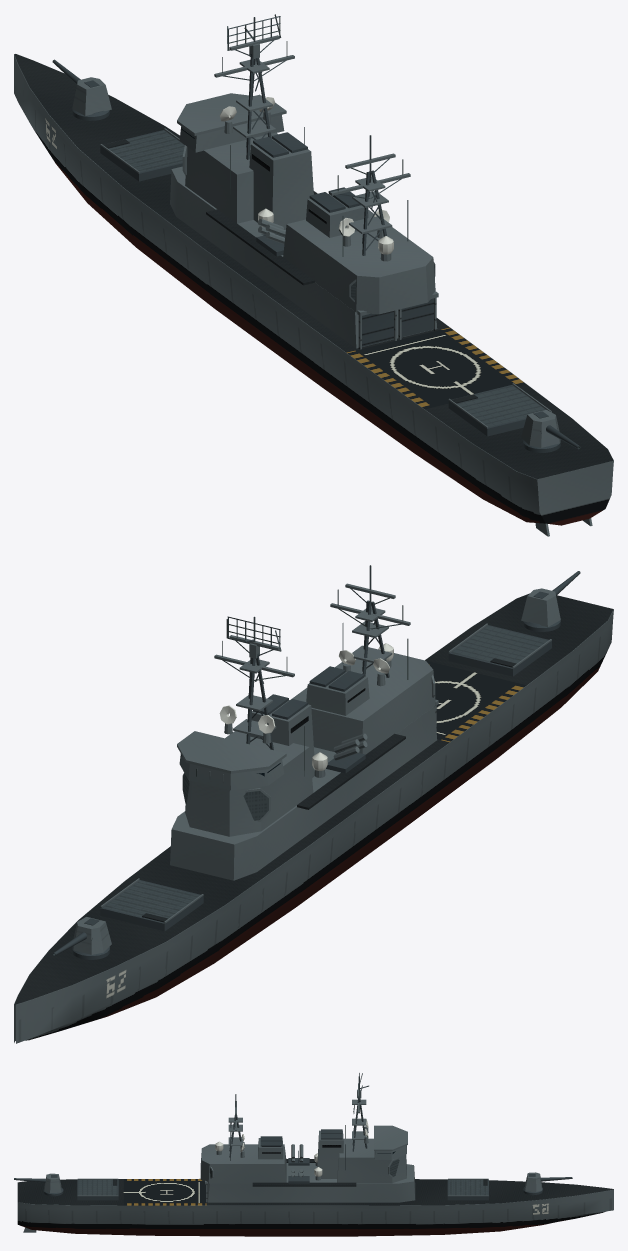
The model's file is missile_cruiser_lod1.glb.
3 renders of one model, top to bottom at view 1: azimuth 30°, elevation 25°; view 2: azimuth 150°, elevation 25°; view 3: azimuth 270°, elevation 25°, orthographic. The views are drawn at different scales.
Parts seen in each view (by area): view 1: hull, deck, superstructure, launchers, stacks, masts, radars, hangar, forward_gun, aft_gun; view 2: hull, superstructure, deck, launchers, masts, stacks, radars, aft_gun, forward_gun; view 3: hull, superstructure, deck, launchers, stacks, masts, radars, aft_gun, forward_gun.
Part boxes in pixels (<box>): hull: <box>14,54,613,536</box>; deck: <box>14,54,613,479</box>; superstructure: <box>170,115,437,348</box>; launchers: <box>100,128,551,436</box>; stacks: <box>249,132,368,237</box>; masts: <box>214,17,410,255</box>; radars: <box>182,14,435,301</box>; hangar: <box>357,291,438,349</box>; forward_gun: <box>52,59,111,120</box>; aft_gun: <box>521,410,580,452</box>; hull: <box>14,609,613,1043</box>; superstructure: <box>170,653,437,880</box>; deck: <box>14,593,613,1004</box>; launchers: <box>100,623,551,931</box>; masts: <box>214,565,410,750</box>; stacks: <box>250,666,369,777</box>; radars: <box>182,616,435,821</box>; aft_gun: <box>521,571,580,631</box>; forward_gun: <box>52,917,111,959</box>; hull: <box>17,1125,613,1236</box>; superstructure: <box>200,1138,415,1202</box>; deck: <box>17,1179,613,1205</box>; launchers: <box>77,1144,488,1200</box>; stacks: <box>258,1129,343,1178</box>; masts: <box>228,1076,367,1157</box>; radars: <box>210,1073,399,1180</box>; aft_gun: <box>14,1173,63,1196</box>; forward_gun: <box>523,1172,572,1195</box>.
Bounding box in the file's own units: 4.52 × 11.86 × 42.26.
1 material, 1 textured.
